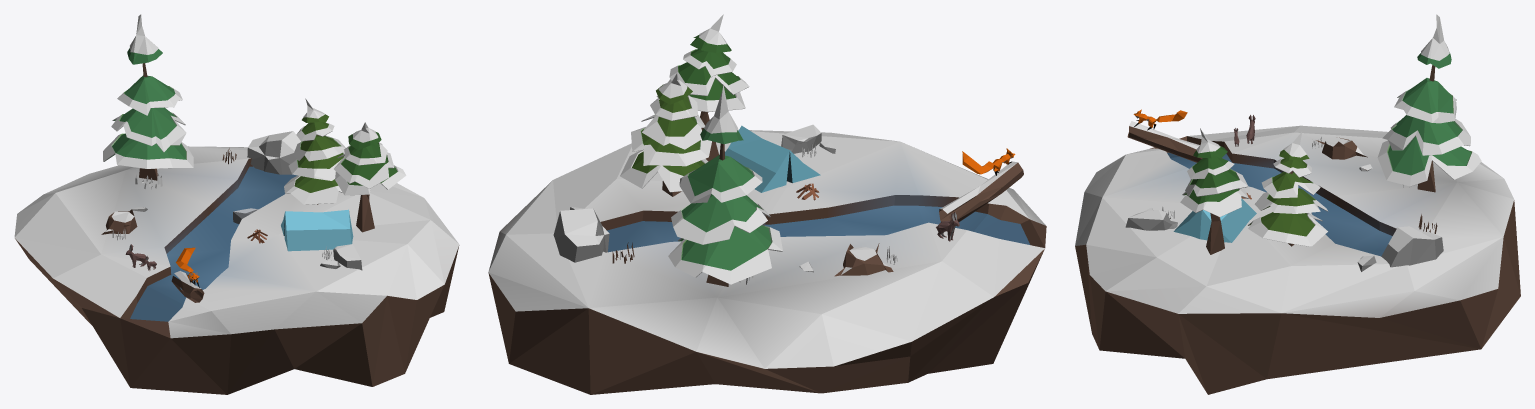
The model's file is Island.glb.
3 views of the same model, side by side, from view 1: azimuth 30°, elevation 25°; view 2: azimuth 150°, elevation 25°; view 3: azimuth 270°, elevation 25° (orthographic). The views are drawn at different scales.
Visible parts, largest first — view 1: island; view 2: island; view 3: island.
Boxes of the visible parts, box(x1,y1,x2,y2) form: island: box(14, 14, 459, 394); island: box(488, 14, 1046, 394); island: box(1075, 14, 1520, 394).
Size of the model in its own units: 7.23 by 5.18 by 7.31.
